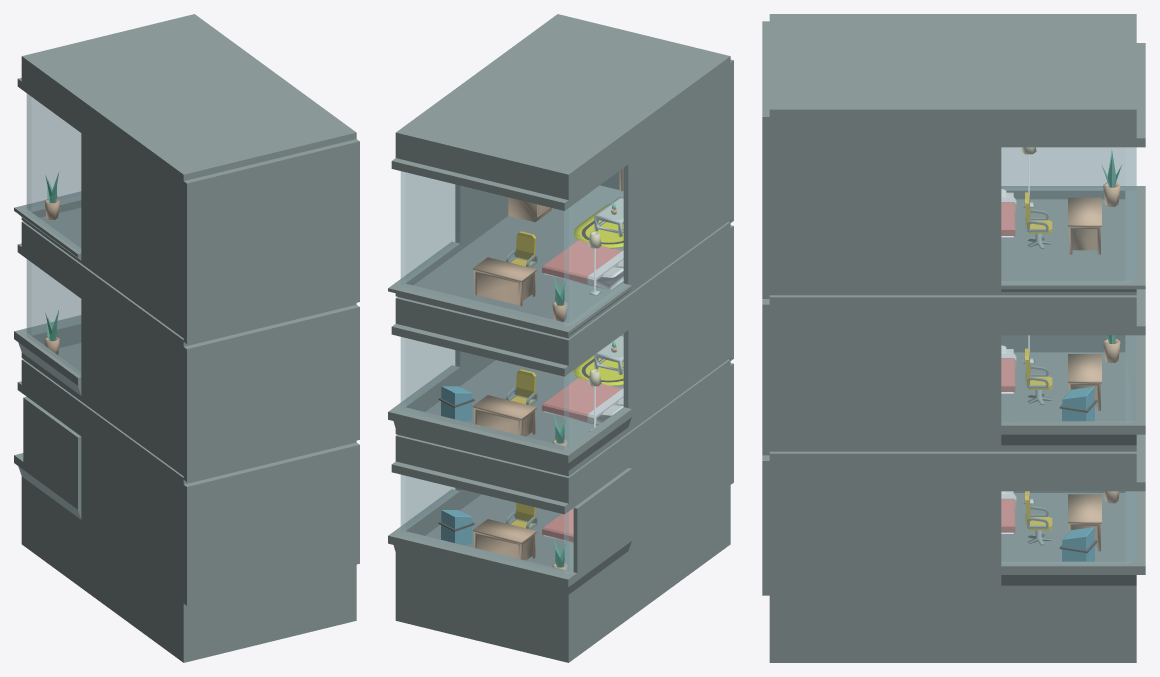
File: the_shop.glb
The picture shows the model from 3 angles, left to right: view 1: azimuth 30°, elevation 25°; view 2: azimuth 150°, elevation 25°; view 3: azimuth 270°, elevation 25°; orthographic projection. The views are drawn at different scales.
Visible parts, largest first — view 1: walls.003, walls.004, back_wall.002, back_wall.001, back_wall, walls.002, windows.002, windows.001, walls.005; view 2: walls.003, walls.004, walls.002, windows.002, windows.001, windows, walls.005, bedDouble.002, bedDouble.001, desk.002, desk, desk.001 (+13 smaller); view 3: walls.003, walls.004, walls.002, windows.002, windows.001, windows, back_wall.002, desk.002, desk, desk.001, back_wall.001, back_wall (+9 smaller).
Part boxes in pixels (x1=…): walls.003: x1=14, y1=14, x2=356, y2=337; walls.004: x1=14, y1=359, x2=356, y2=662; back_wall.002: x1=183, y1=139, x2=359, y2=343; back_wall.001: x1=183, y1=304, x2=359, y2=481; back_wall: x1=183, y1=442, x2=359, y2=605; walls.002: x1=14, y1=221, x2=356, y2=475; windows.002: x1=26, y1=94, x2=81, y2=252; windows.001: x1=26, y1=259, x2=81, y2=375; walls.005: x1=23, y1=396, x2=81, y2=501; walls.003: x1=388, y1=14, x2=730, y2=338; walls.004: x1=388, y1=359, x2=730, y2=662; walls.002: x1=388, y1=221, x2=730, y2=476; windows.002: x1=400, y1=165, x2=627, y2=326; windows.001: x1=400, y1=331, x2=627, y2=450; windows: x1=400, y1=474, x2=573, y2=574; walls.005: x1=573, y1=468, x2=631, y2=572; bedDouble.002: x1=542, y1=240, x2=623, y2=290; bedDouble.001: x1=542, y1=378, x2=623, y2=425; desk.002: x1=473, y1=257, x2=536, y2=306; desk: x1=473, y1=519, x2=536, y2=560; desk.001: x1=473, y1=395, x2=536, y2=436; walls.003: x1=769, y1=14, x2=1145, y2=295; walls.004: x1=769, y1=434, x2=1145, y2=662; walls.002: x1=769, y1=289, x2=1145, y2=451; windows.002: x1=1001, y1=147, x2=1136, y2=283; windows.001: x1=1001, y1=335, x2=1136, y2=423; windows: x1=1001, y1=491, x2=1136, y2=563; back_wall.002: x1=762, y1=21, x2=769, y2=298; desk.002: x1=1068, y1=197, x2=1101, y2=254; desk: x1=1068, y1=494, x2=1101, y2=551; desk.001: x1=1068, y1=354, x2=1101, y2=410; back_wall.001: x1=762, y1=299, x2=769, y2=455; back_wall: x1=762, y1=455, x2=769, y2=595.
Bounding box in the file's own units: 2.71 × 7.03 × 4.41.
